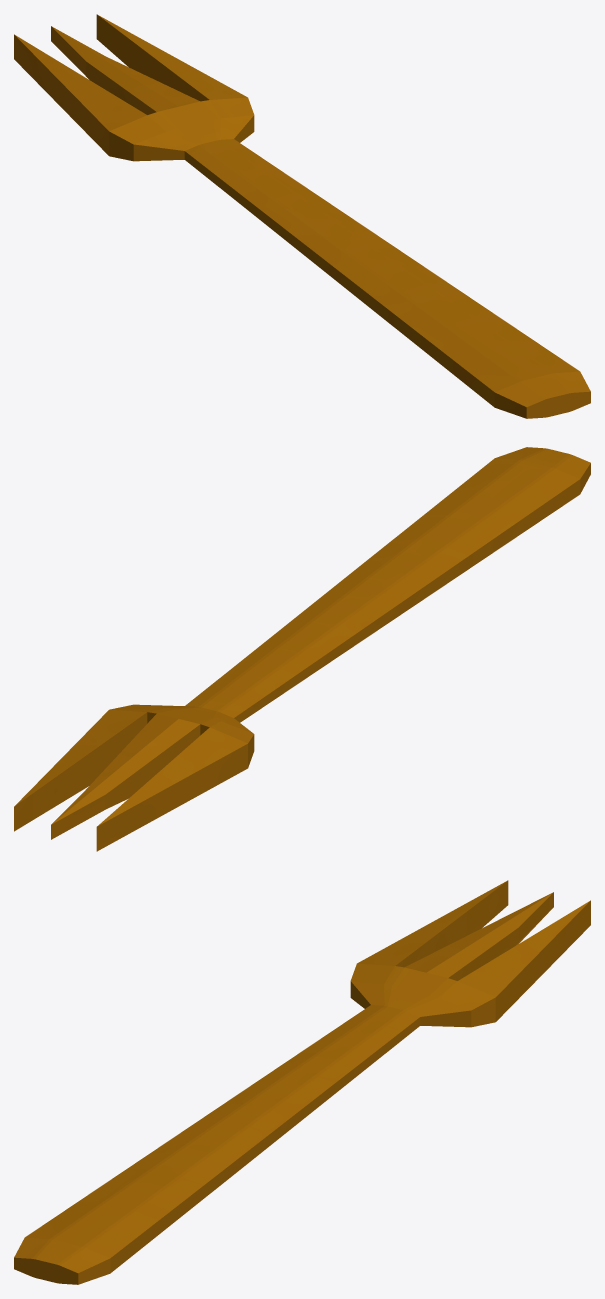
Rendered from Fork.fbx.
The picture shows the model from 3 angles, top to bottom: view 1: azimuth 30°, elevation 25°; view 2: azimuth 150°, elevation 25°; view 3: azimuth 330°, elevation 25°; orthographic projection.
Visible parts, largest first — view 1: Fork; view 2: Fork; view 3: Fork.
Part boxes in pixels (x1,y1,x2,y2): Fork: (14, 14, 590, 418); Fork: (14, 447, 590, 851); Fork: (14, 880, 590, 1284).
Bounding box in the file's own units: 3.49 × 0.9683 × 22.12.
